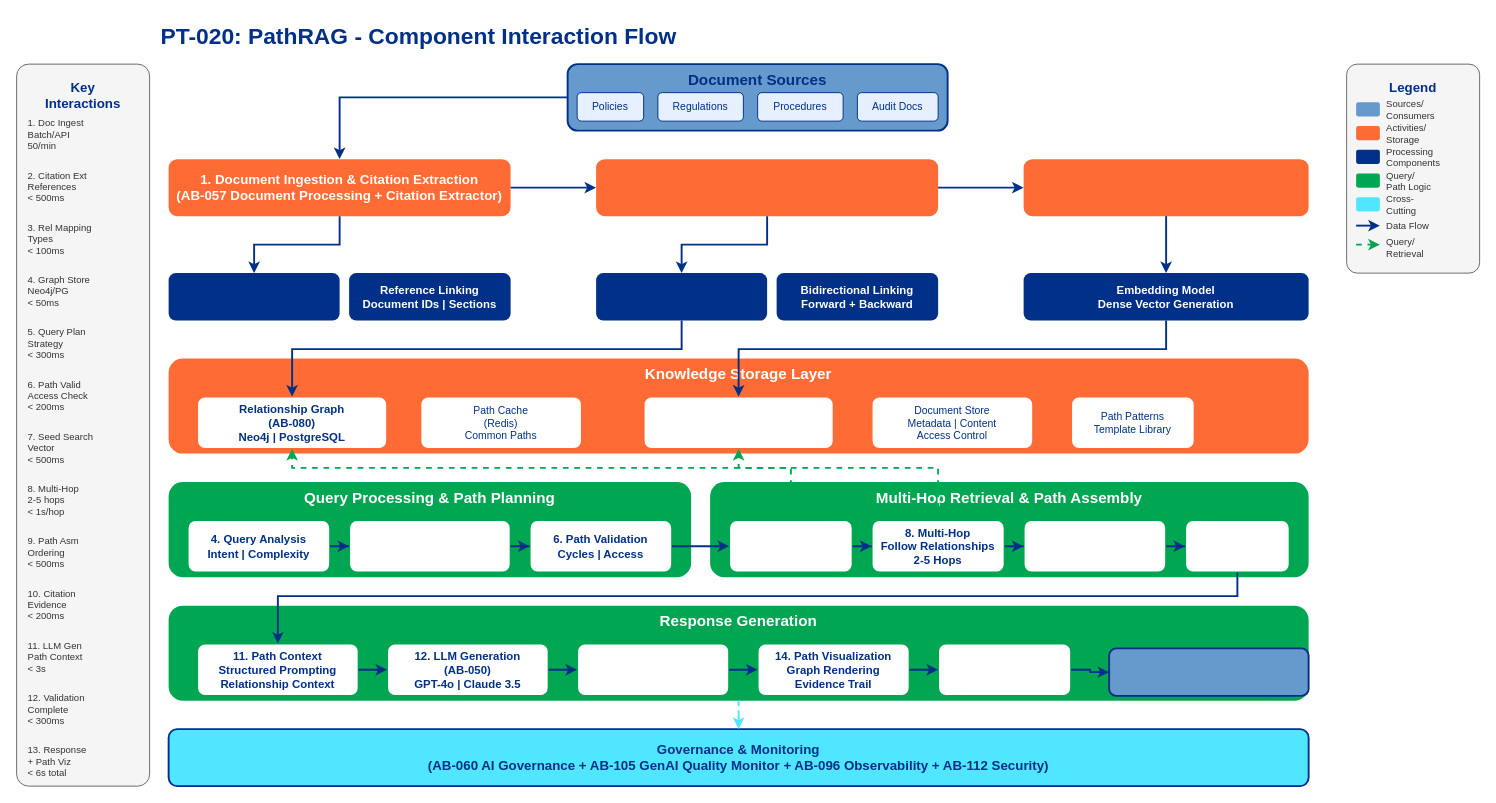
Image size: 1496x803. Some labels were removed from this diagram. The shapes that lost their labels are listed below. From the top down, each one's centre as x and y in pixels, then its label:
At [767,187]: "2. Relationship Graph Construction (Document-to-Document Relationships)".
At [1165,187]: "3. Vector Embedding Generation (text-embedding-3-large)".
At [253,296]: "Citation Extraction Regex | NER | LLM-based".
At [681,296]: "Relationship Typing cites | supersedes | implements".
At [738,422]: "Vector Database (AB-051) Pinecone | Weaviate".
At [429,546]: "5. Path Strategy Starting Points | Depth Relationship Types".
At [790,546]: "7. Seed Retrieval Vector Search".
At [1094,546]: "9. Path Assembly Ordered Sequence Context Preservation".
At [1237,546]: "10. Path Citation Evidence Chain".
At [653,669]: "13. Path Validation Completeness Check Faithfulness".
At [1004,669]: "15. Response with Path Citations".
At [1208,671]: "Consumer Applications".
